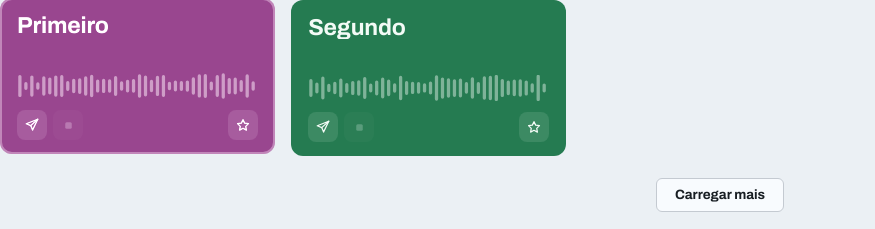
Test case: MyInstantsPanel › appends the next page and keeps what is already on screen
Step 1. Click the button "Carregar mais" → (720, 195), box x1=656 y1=178 x2=784 y2=212
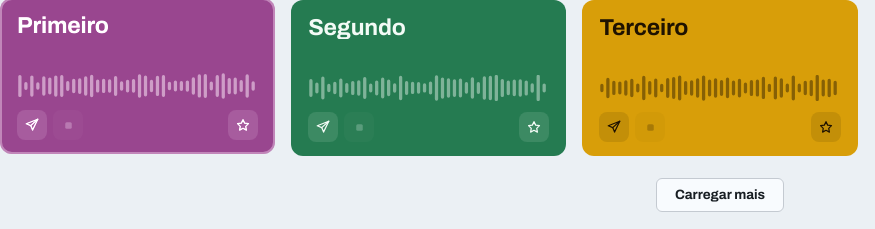
Expected: the element "Terceiro" is shown, x1=582 y1=0 x2=858 y2=156
